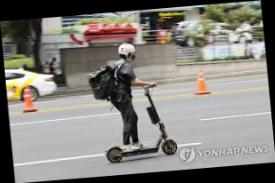helmet: (84, 39, 179, 165)
